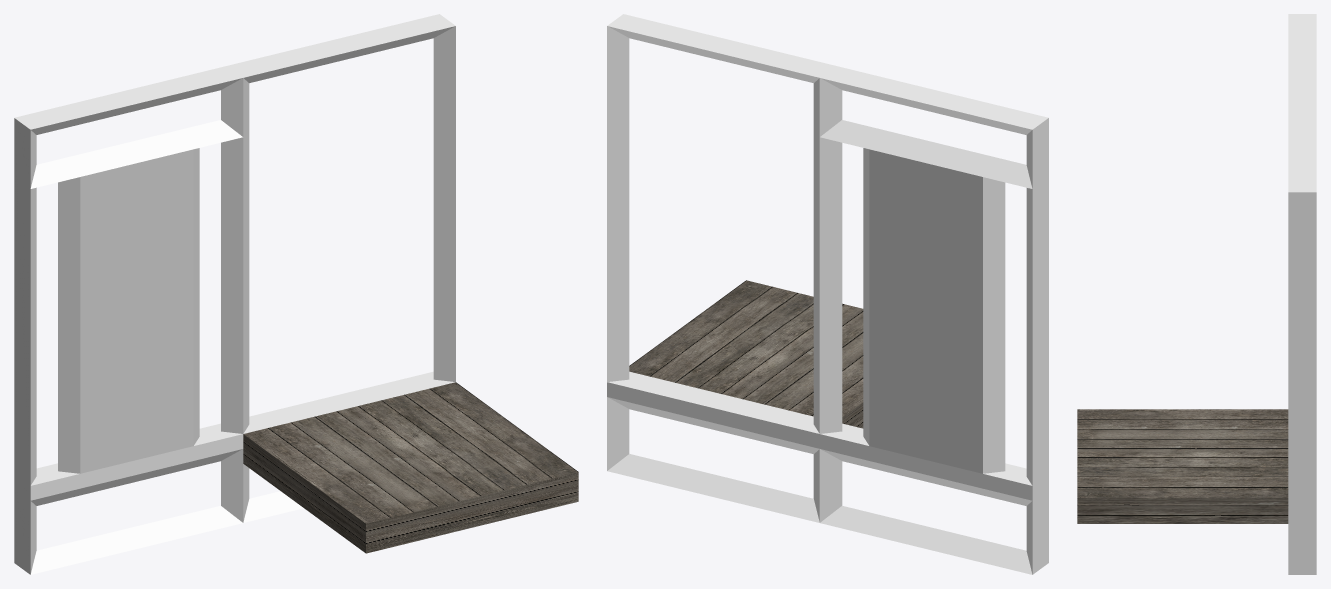
The model's file is modular_building.glb.
The picture shows the model from 3 angles, left to right: view 1: azimuth 30°, elevation 25°; view 2: azimuth 150°, elevation 25°; view 3: azimuth 270°, elevation 25°; orthographic projection. The views are drawn at different scales.
Parts seen in each view (by area): view 1: DoorFrame, FloorSquare, Door, WallFrame; view 2: DoorFrame, Door, WallFrame, FloorSquare; view 3: FloorSquare, WallFrame, DoorFrame.
Boxes of the visible parts, x1=… form: DoorFrame: x1=14, y1=66, x2=243, y2=574; FloorSquare: x1=243, y1=382, x2=578, y2=553; Door: x1=80, y1=149, x2=193, y2=473; WallFrame: x1=227, y1=14, x2=455, y2=522; DoorFrame: x1=819, y1=66, x2=1048, y2=574; Door: x1=869, y1=149, x2=982, y2=473; WallFrame: x1=607, y1=14, x2=835, y2=522; FloorSquare: x1=629, y1=280, x2=863, y2=428; FloorSquare: x1=1077, y1=409, x2=1288, y2=523; WallFrame: x1=1288, y1=103, x2=1316, y2=574; DoorFrame: x1=1288, y1=14, x2=1316, y2=103.
Size of the model in its own units: 3 by 3 by 1.7.
Materials: 2 (1 with a texture image).
